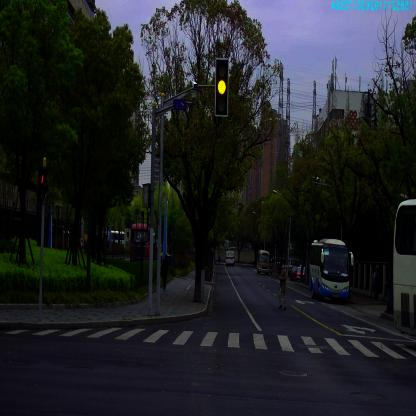traffic-light: (216, 59, 228, 115)
